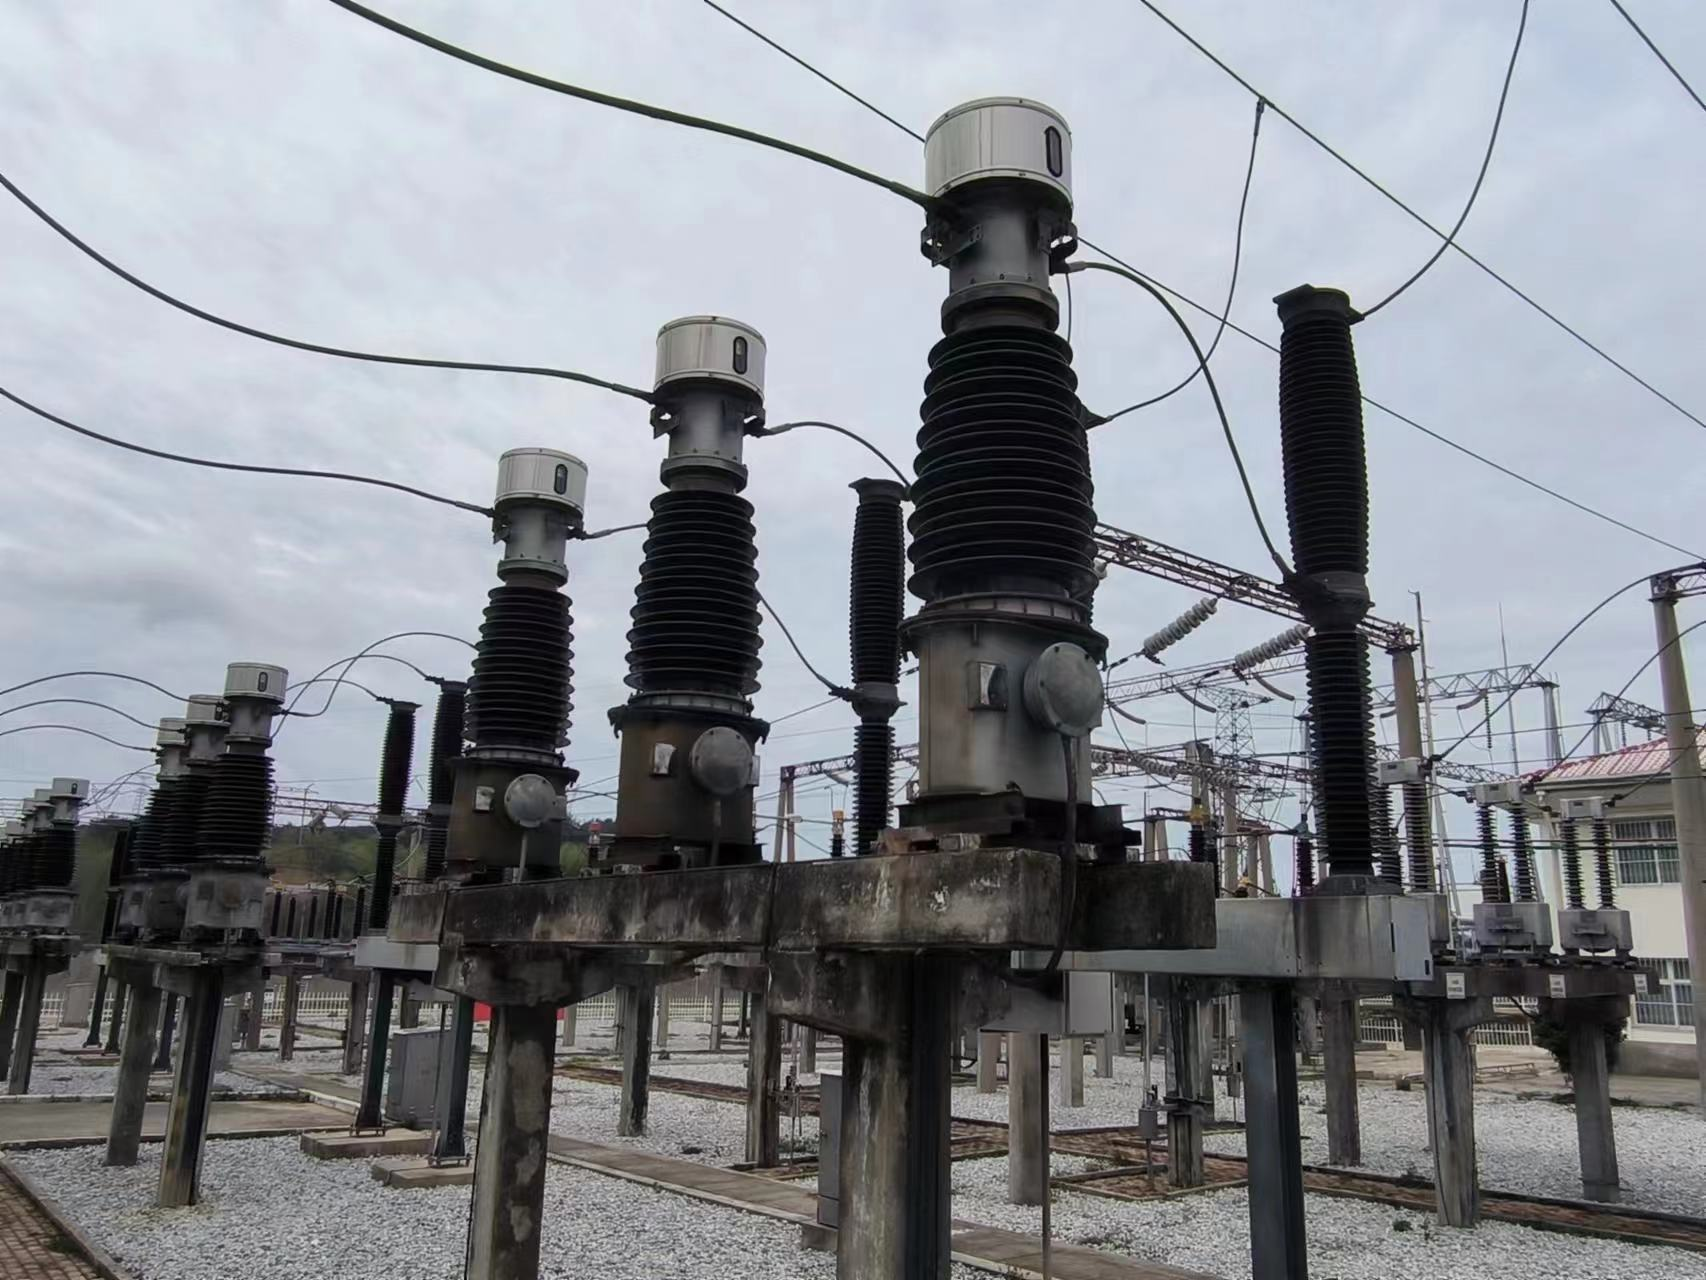Circuit-breaker: (1260, 282, 1412, 893), (839, 467, 911, 859)
Current transformer: (903, 90, 1110, 813), (608, 315, 777, 855), (437, 442, 587, 869), (186, 657, 296, 937)
